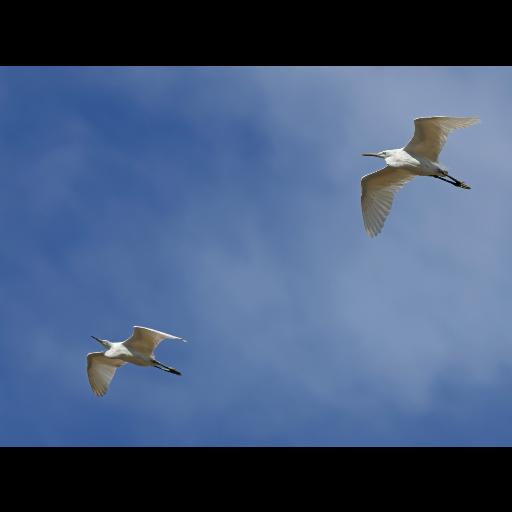chinese_egret: (360, 111, 484, 237), (86, 321, 190, 397)
